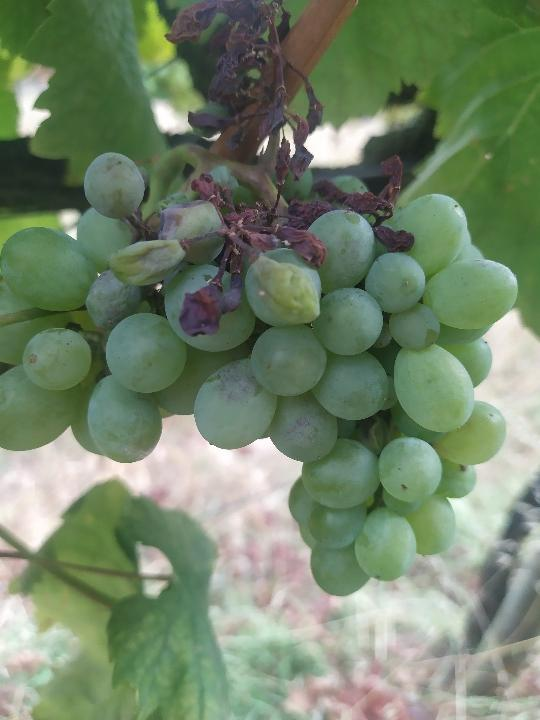grape: (0, 0, 522, 598)
